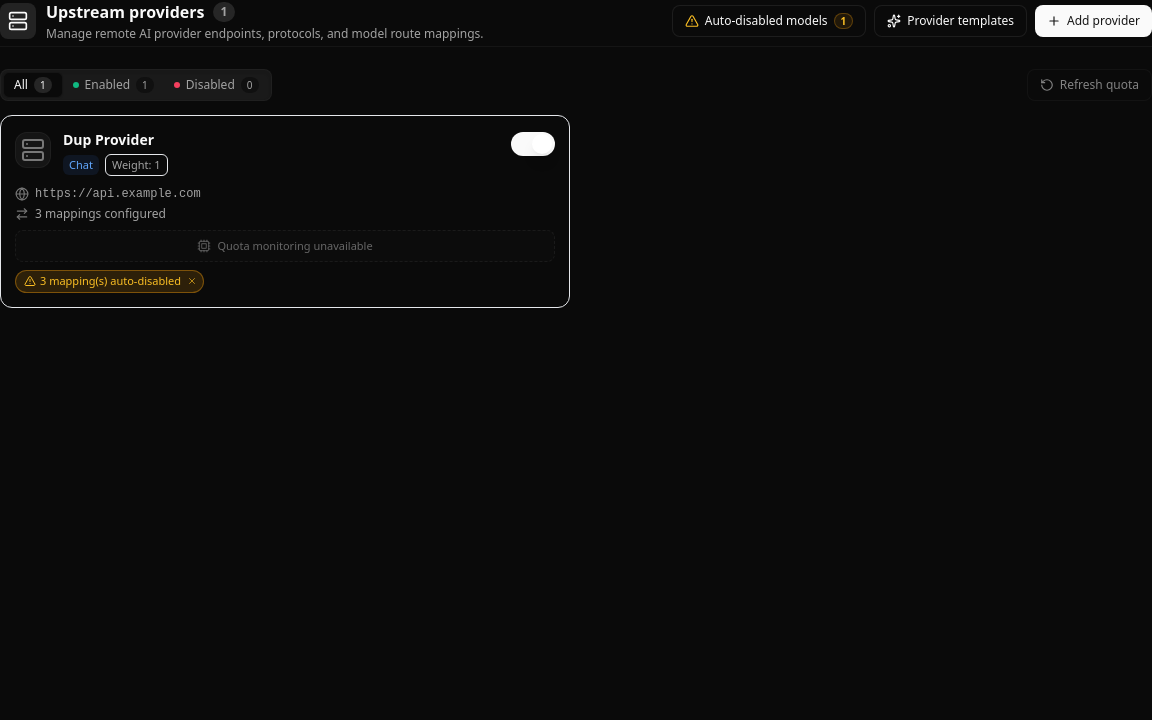
Scenario: Auto-disabled dialog identities and metadata › merges duplicate recovery identities into one action with the protocol union, newest non-null metadata, time tie and manual constituent
The width and height of the screenshot is (1152, 720).
Step 1. Click the button with test id "ai-gateway-auto-disabled-models" → (769, 21), box [672, 5, 866, 37]
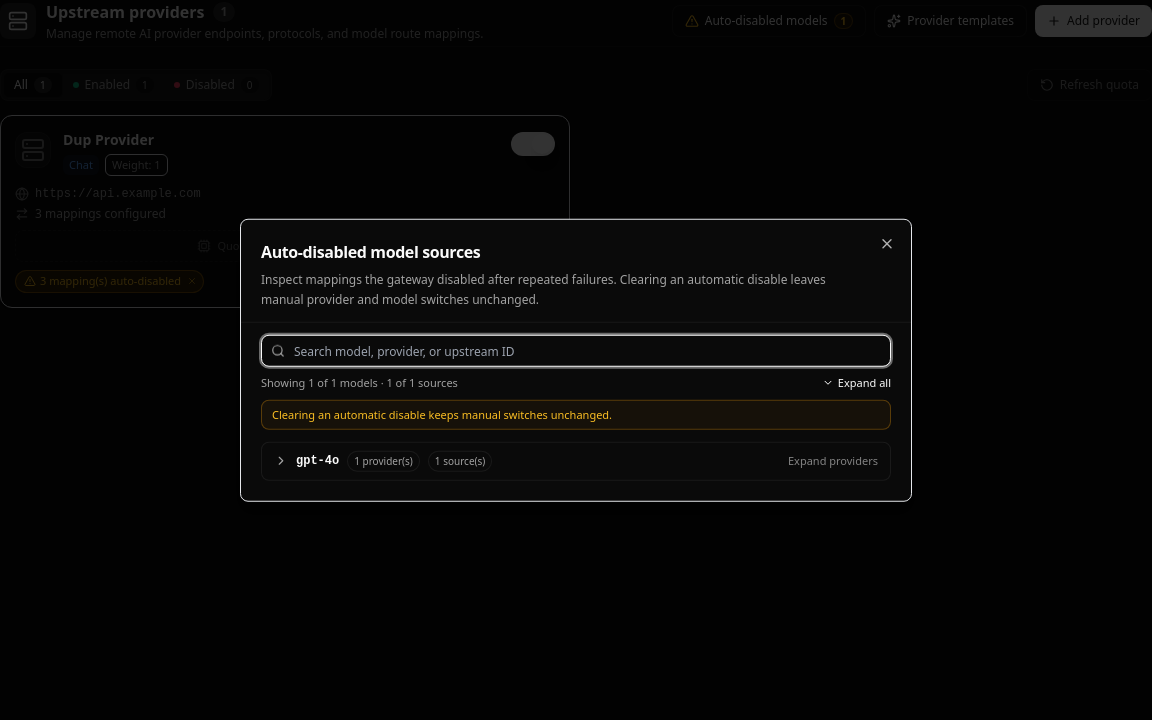
Step 2. Click the button with test id "ai-gateway-auto-disabled-model-toggle-gpt-4o" → (318, 461), box [262, 442, 890, 479]
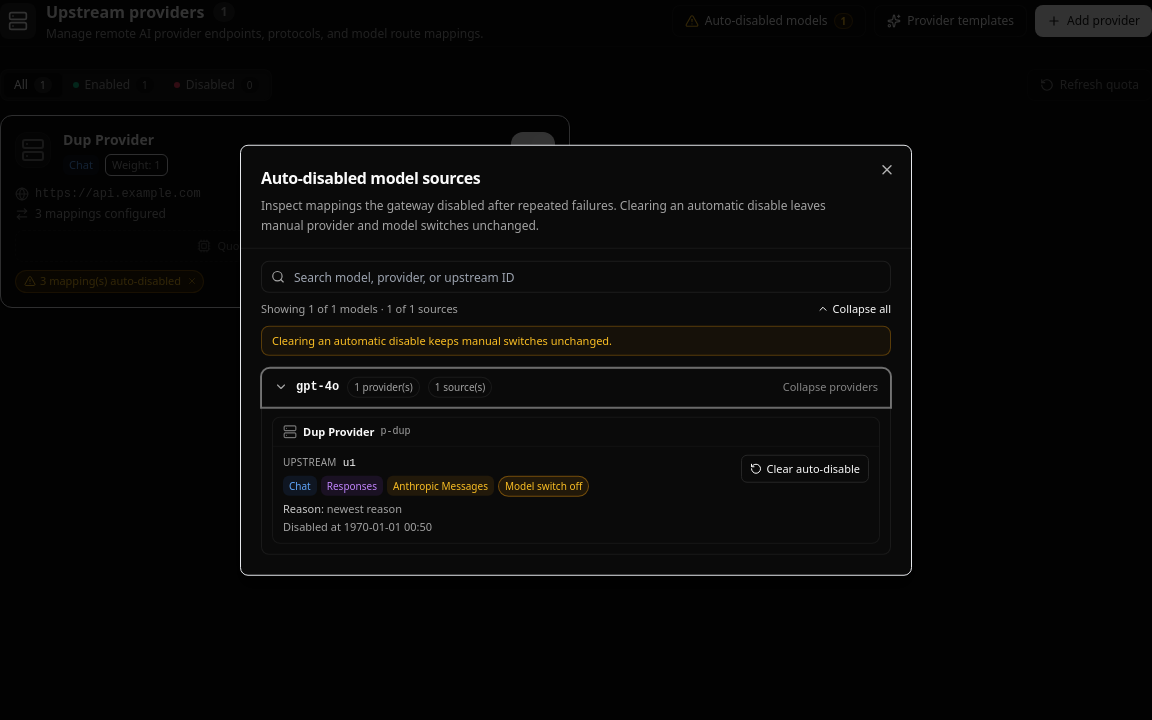
Expected: the number of buttons "Clear auto-disable" is 1, [741, 455, 869, 483]
Expected: the text "Chat" is shown, [283, 476, 317, 496]
Expected: the text "Responses" is shown, [321, 476, 383, 496]
